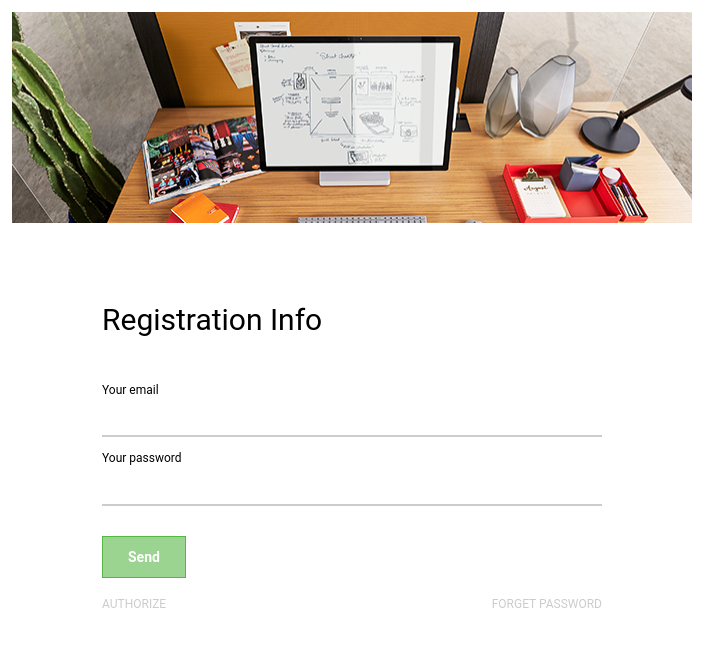
RegisterForm › input password › too short
This screenshot has width=709, height=649.
Type "lk" into the password field with test id "input_password".
click(352, 487); type("lk")  # box x1=102 y1=468 x2=602 y2=506
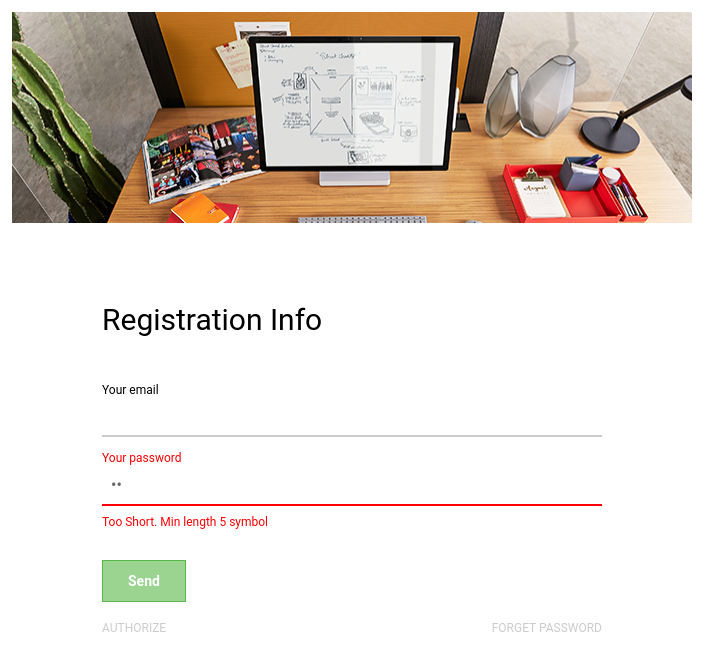
Check: the element with test id "test_password" reads "Too Short. Min length 5 symbol", box x1=102 y1=515 x2=268 y2=529
